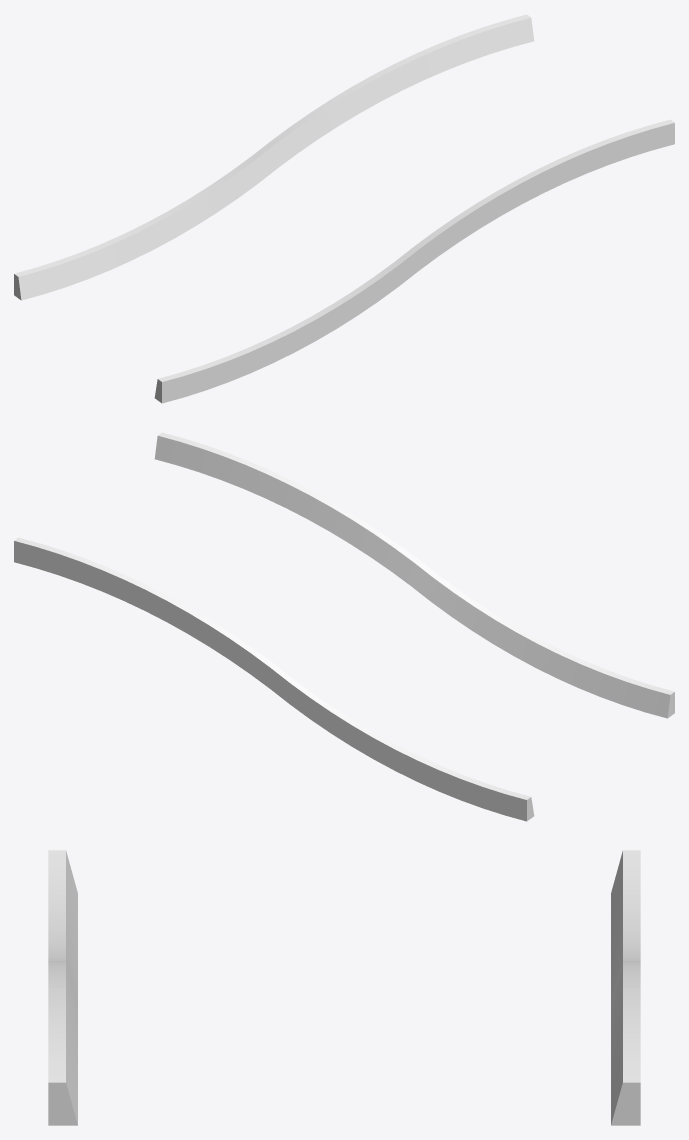
The model's file is road-slant-curve-barrier.glb.
3 views of the same model, one above another, from view 1: azimuth 30°, elevation 25°; view 2: azimuth 150°, elevation 25°; view 3: azimuth 270°, elevation 25° (orthographic). The views are drawn at different scales.
Visible parts, largest first — view 1: road-slant-curve-barrier; view 2: road-slant-curve-barrier; view 3: road-slant-curve-barrier.
Boxes of the visible parts, x1=… form: road-slant-curve-barrier: x1=14, y1=14, x2=674, y2=403; road-slant-curve-barrier: x1=14, y1=432, x2=674, y2=821; road-slant-curve-barrier: x1=48, y1=850, x2=640, y2=1125.
Bounding box in the file's own units: 2 × 0.58 × 1.
1 material, 1 textured.
